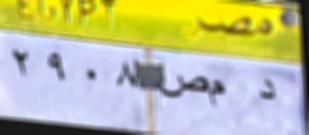0: (81, 63, 100, 89)
2: (10, 41, 34, 83)
8: (113, 60, 135, 92)
9: (43, 47, 68, 82)
daal: (253, 74, 281, 108)
meem: (209, 72, 226, 109)
saad: (156, 67, 208, 106)
